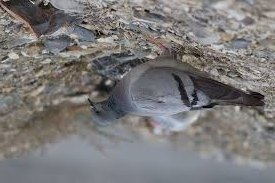pigeon: (86, 46, 267, 128)
